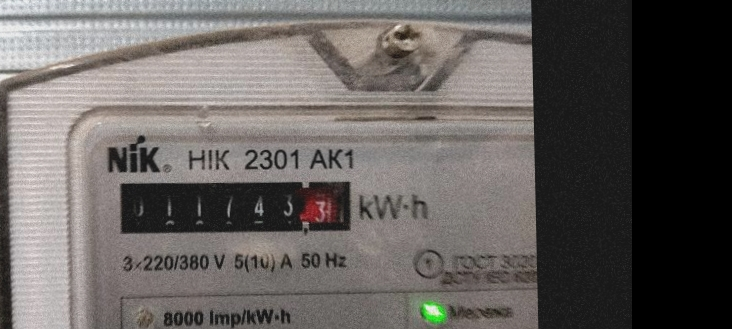0: (130, 191, 145, 219)
1: (191, 190, 204, 218), (162, 190, 173, 218)
3: (280, 191, 295, 218), (311, 199, 326, 224)
4: (250, 191, 265, 219)
7: (220, 189, 236, 217)
screen: (108, 167, 362, 247)
